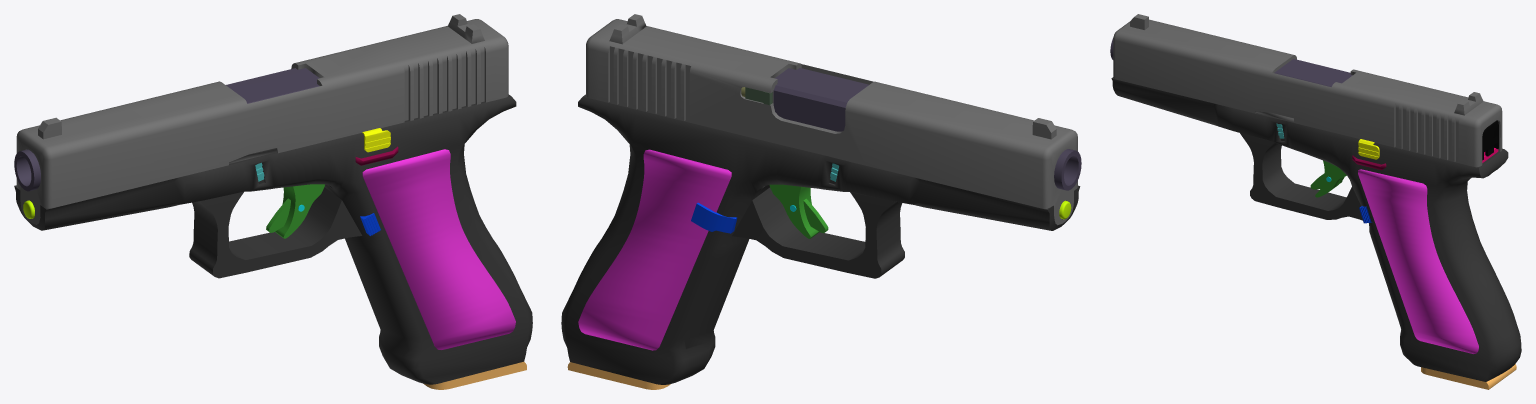
The model's file is Gun.fbx.
3 renders of one model, left to right at view 1: azimuth 30°, elevation 25°; view 2: azimuth 150°, elevation 25°; view 3: azimuth 330°, elevation 25°, orthographic. The views are drawn at different scales.
Parts seen in each view (by area): view 1: Cube.001, Cube.005; view 2: Cube.001, Cube.005; view 3: Cube.001, Cube.005.
Part boxes in pixels (left/top/right/bottom): Cube.001: left=14, top=14, right=526, bottom=389; Cube.005: left=14, top=94, right=532, bottom=384; Cube.001: left=567, top=14, right=1081, bottom=389; Cube.005: left=561, top=94, right=1080, bottom=384; Cube.001: left=1110, top=14, right=1516, bottom=389; Cube.005: left=1111, top=77, right=1521, bottom=381.
Bounding box in the file's own units: 240 × 158 × 33.4.
